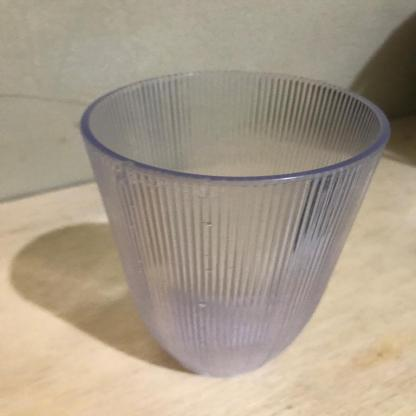glass: (64, 57, 397, 384)
